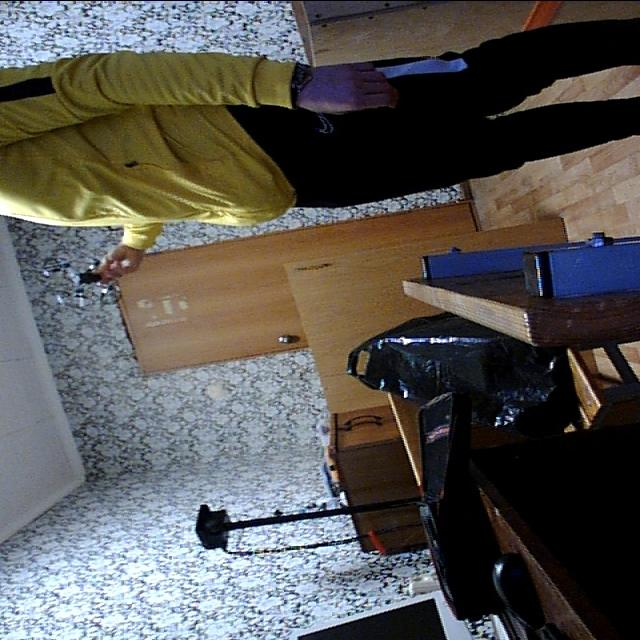drone: (33, 245, 134, 312)
